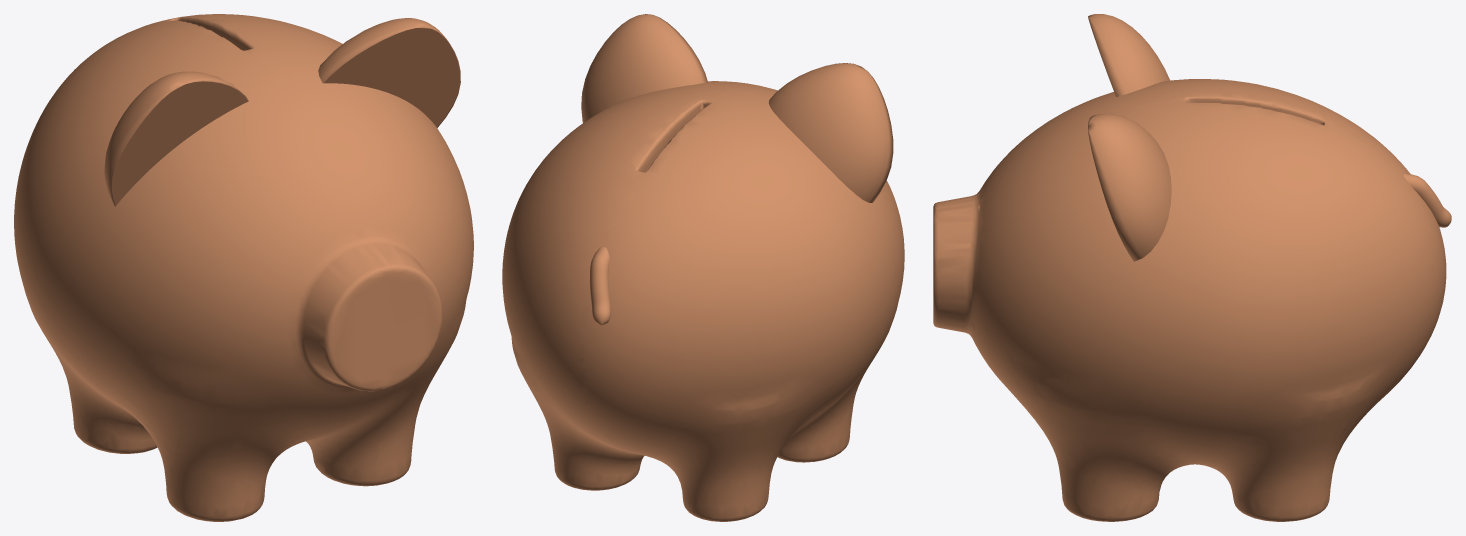
Rendered from alcancia_l.glb.
3 views of the same model, side by side, from view 1: azimuth 30°, elevation 25°; view 2: azimuth 150°, elevation 25°; view 3: azimuth 270°, elevation 25° (orthographic). The views are drawn at different scales.
Parts seen in each view (by area): view 1: cuerpo, oreja_izq, oreja_der; view 2: cuerpo, oreja_der, oreja_izq, cola; view 3: cuerpo, oreja_izq, oreja_der, cola.
Part boxes in pixels (box(x1,y1,x2,y2)): cuerpo: box(14, 14, 473, 521); oreja_izq: box(318, 18, 460, 127); oreja_der: box(104, 71, 248, 206); cuerpo: box(502, 81, 904, 521); oreja_der: box(768, 63, 893, 202); oreja_izq: box(581, 14, 707, 122); cola: box(590, 247, 610, 325); cuerpo: box(933, 79, 1446, 521); oreja_izq: box(1088, 113, 1171, 261); oreja_der: box(1088, 14, 1169, 96); cola: box(1403, 172, 1451, 227).
Bounding box in the file's own units: 0.1296 × 0.1413 × 0.1641.
